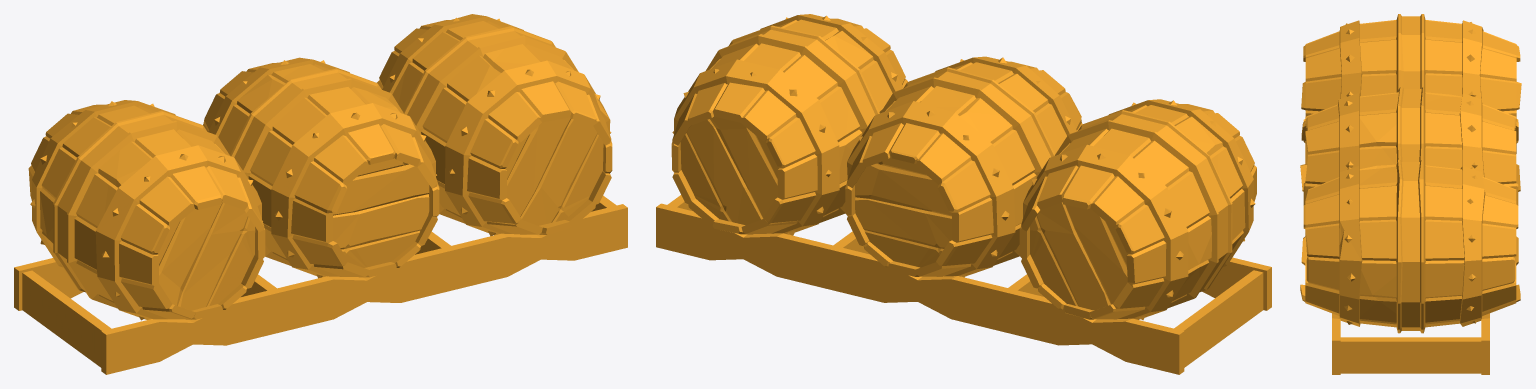
Rendered from SM_Barrel_Stand_3m_Fantasy.fbx.
3 renders of one model, left to right at view 1: azimuth 30°, elevation 25°; view 2: azimuth 150°, elevation 25°; view 3: azimuth 270°, elevation 25°, orthographic. The views are drawn at different scales.
Parts seen in each view (by area): view 1: barrel-stand-3m-fantasy; view 2: barrel-stand-3m-fantasy; view 3: barrel-stand-3m-fantasy.
Boxes of the visible parts, bbox=[...] form: barrel-stand-3m-fantasy: bbox=[14, 14, 627, 374]; barrel-stand-3m-fantasy: bbox=[656, 14, 1271, 374]; barrel-stand-3m-fantasy: bbox=[1300, 14, 1521, 374].
Size of the model in its own units: 3 by 1.09 by 1.29.
